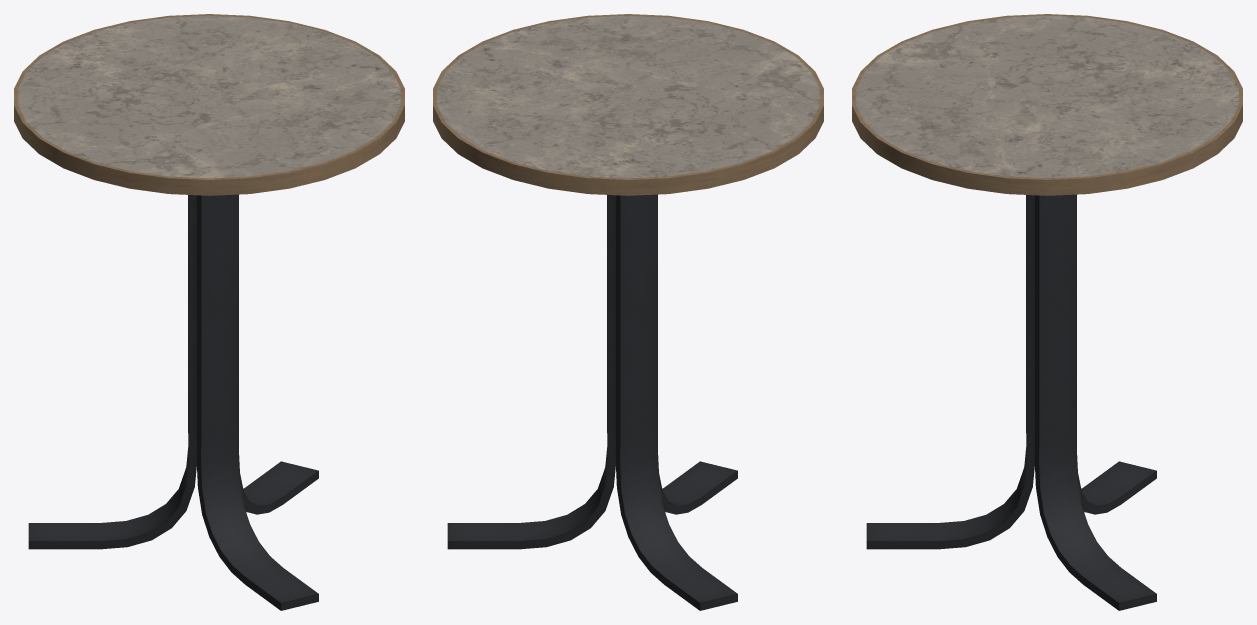
File: table.glb
3 views of the same model, side by side, from view 1: azimuth 30°, elevation 25°; view 2: azimuth 150°, elevation 25°; view 3: azimuth 270°, elevation 25° (orthographic).
Visible parts, largest first — view 1: OPM0002; view 2: OPM0002; view 3: OPM0002.
Part boxes in pixels (x1,y1,x2,y2): OPM0002: (14, 14, 404, 610); OPM0002: (433, 14, 823, 610); OPM0002: (852, 14, 1242, 610).
Bounding box in the file's own units: 0.45 × 0.56 × 0.4475.
1 material, 1 textured.
